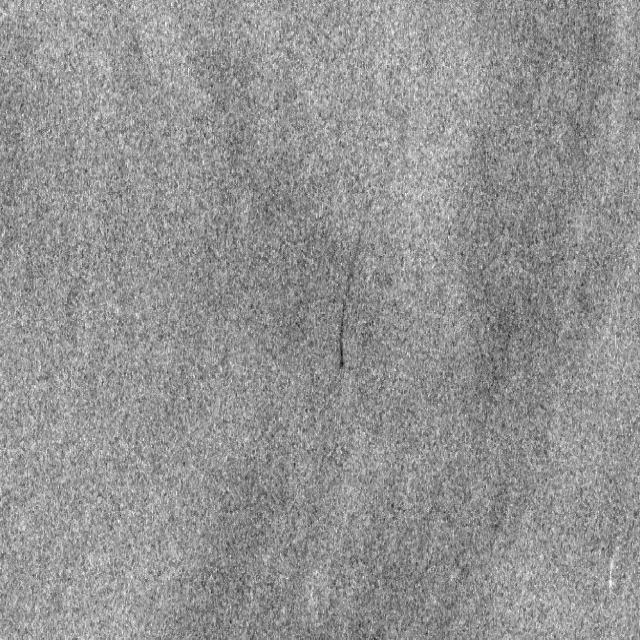oil-spill: (330, 188, 380, 374)
